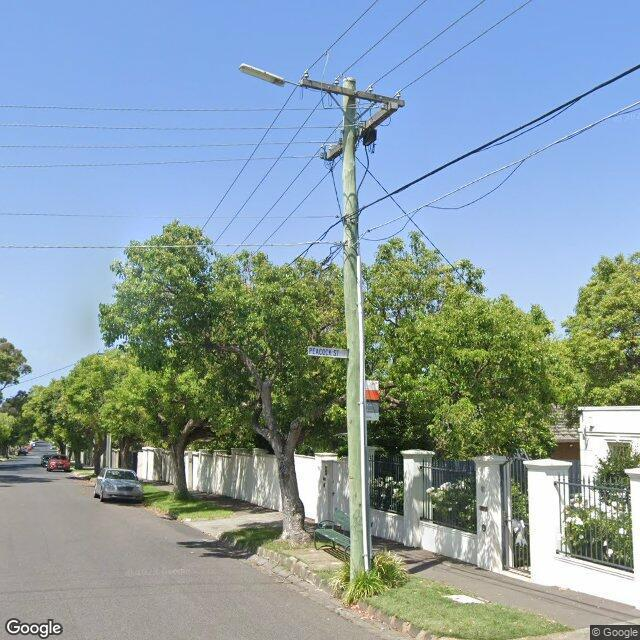crossarm: (326, 102, 398, 160), (300, 79, 404, 108)
streetlight: (238, 63, 300, 88)
timber-pole: (342, 76, 372, 586)
